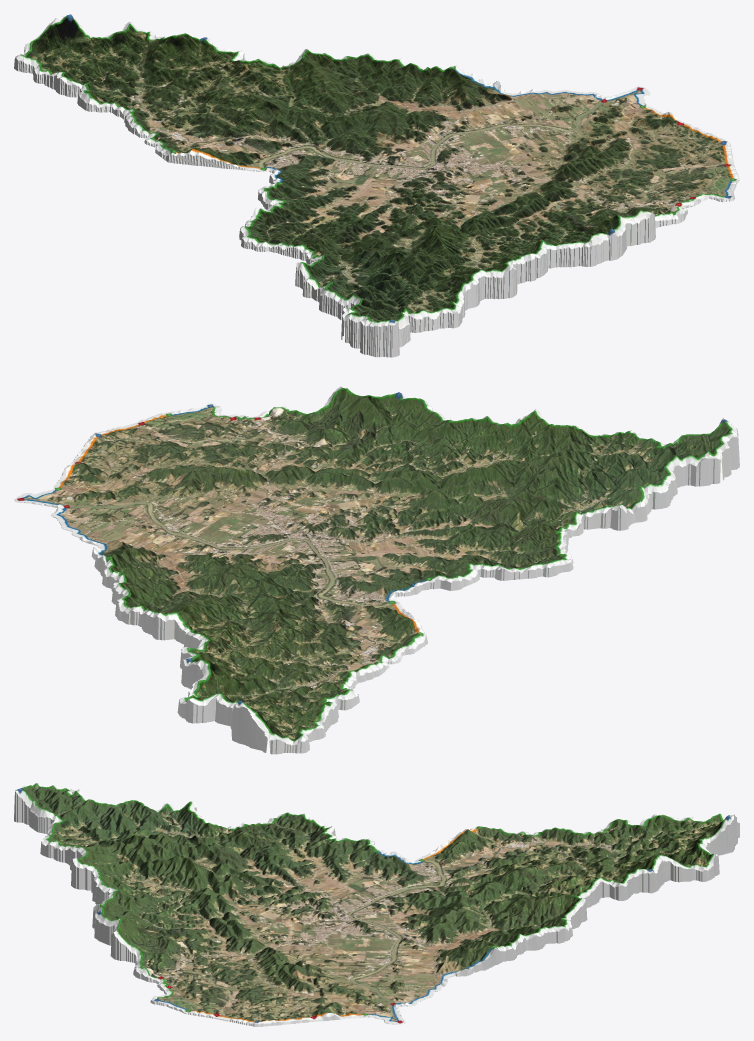
3 renders of one model, top to bottom at view 1: azimuth 30°, elevation 25°; view 2: azimuth 150°, elevation 25°; view 3: azimuth 270°, elevation 25°, orthographic. The views are drawn at different scales.
Bounding box in the file's own units: 0.9999 × 0.0726 × 1.41.
Materials: 1 (1 with a texture image).
